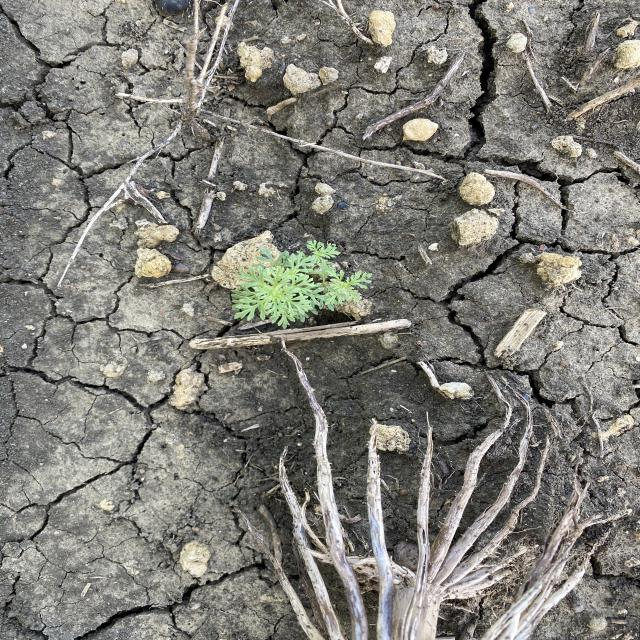Ragweed: (230, 239, 374, 329)
